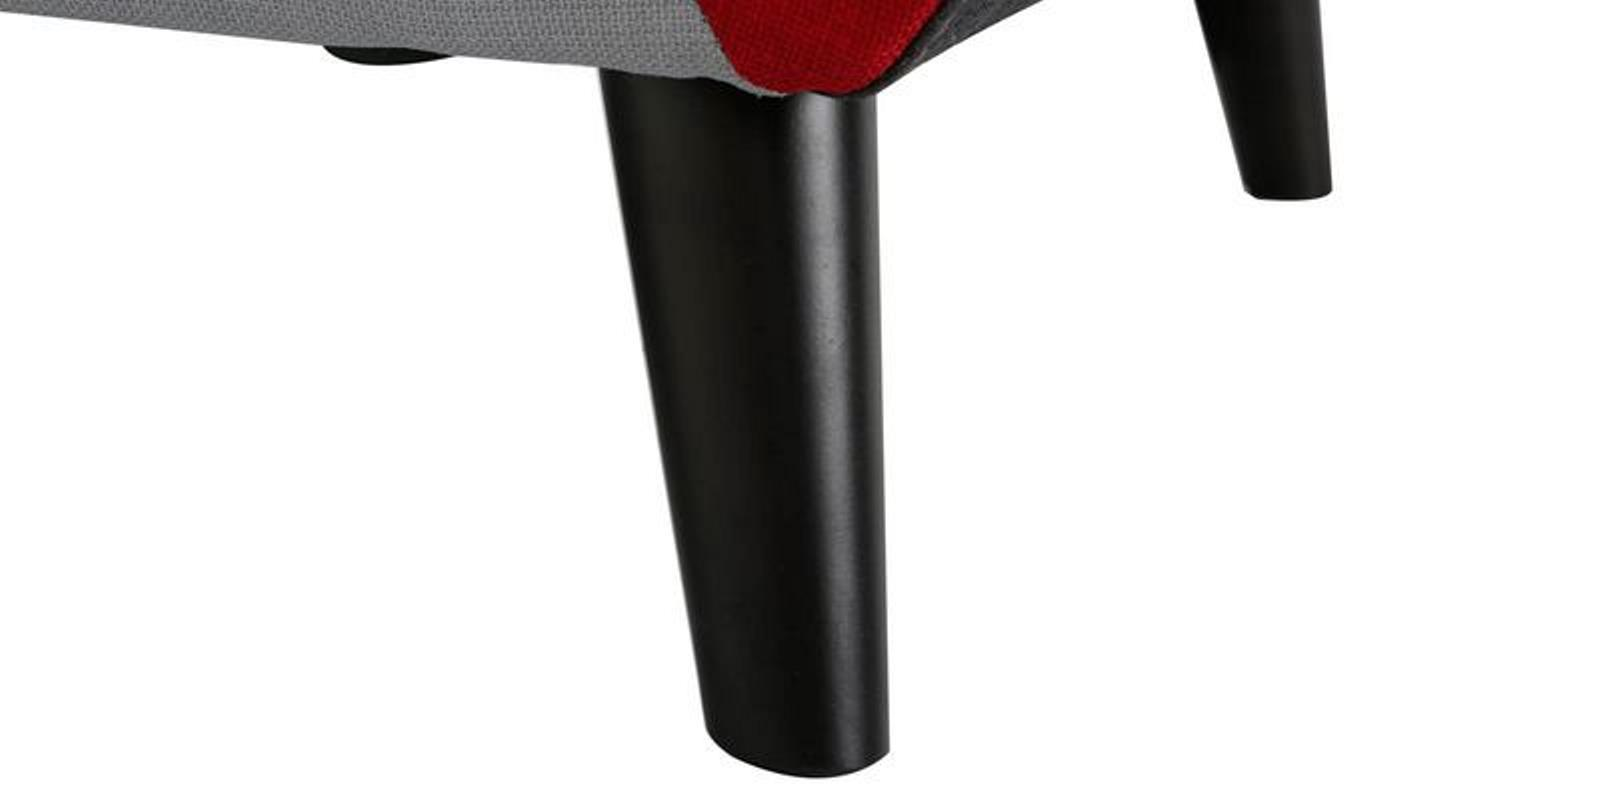Frida Three Seater Sofa in Red Multi Colour by CasaCraft: (1, 1, 1441, 785)
